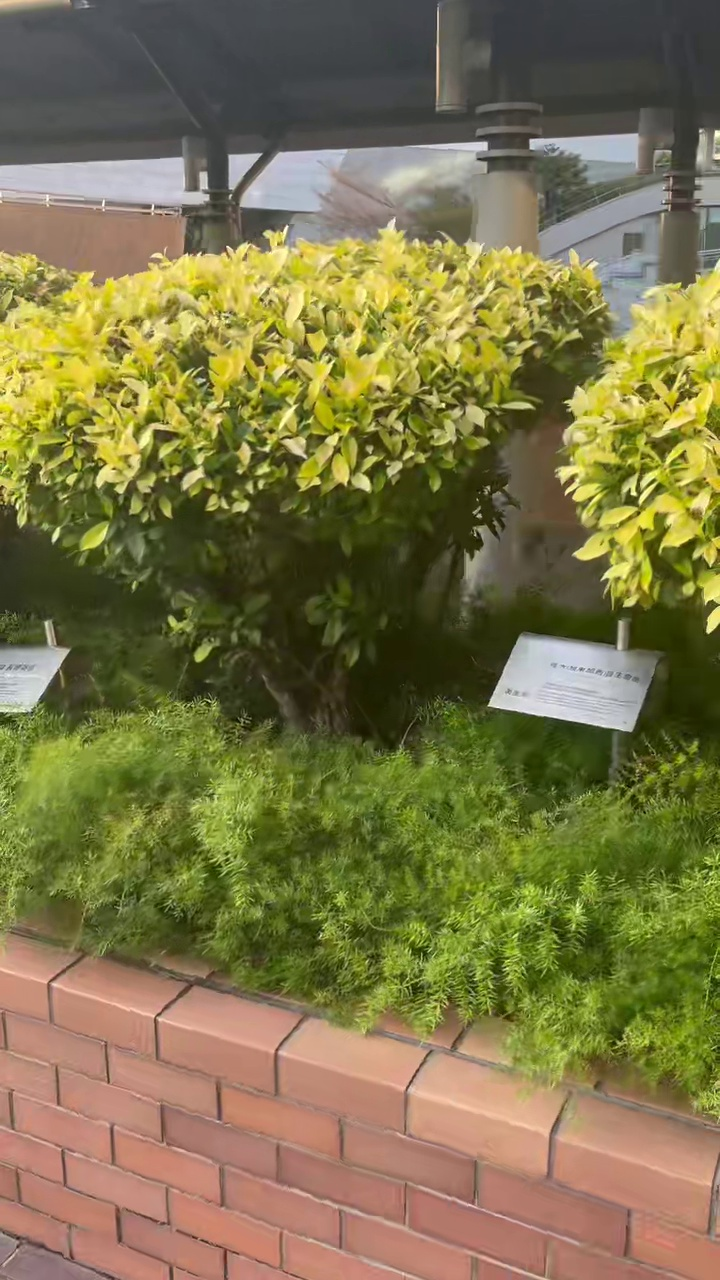Golden-leaves Fig: (0, 227, 605, 728)
